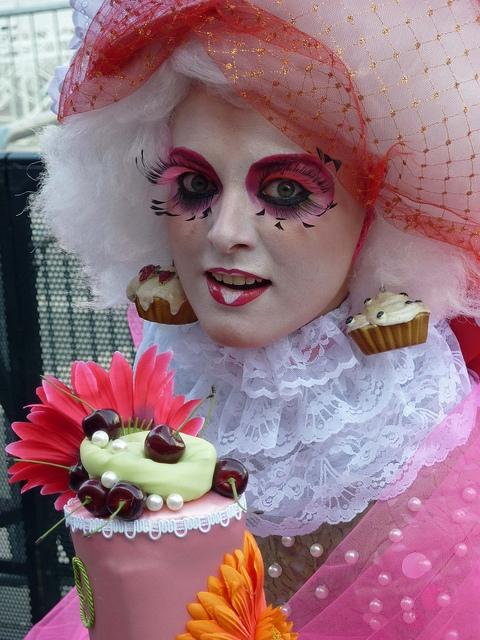cherry: (40, 376, 122, 441), (35, 478, 110, 544), (144, 394, 214, 464), (82, 480, 148, 538), (210, 458, 264, 514), (5, 458, 90, 493)
